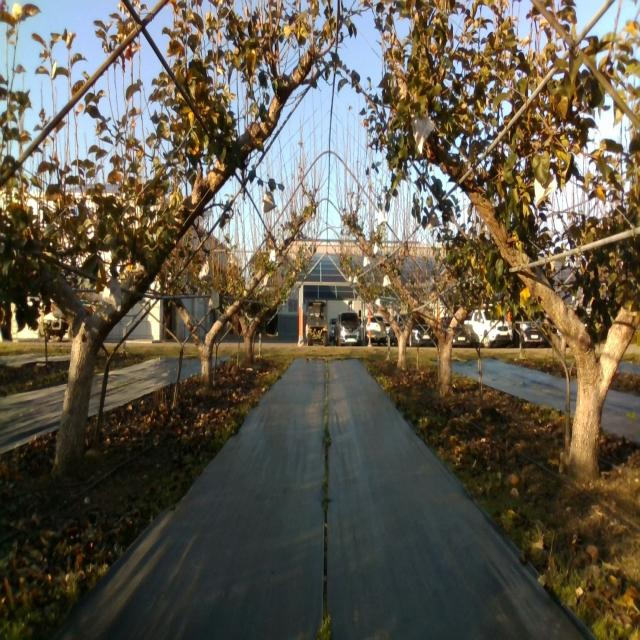pearbags: (533, 172, 558, 208), (100, 274, 122, 311), (412, 116, 434, 152), (199, 255, 213, 282), (264, 186, 276, 214)
